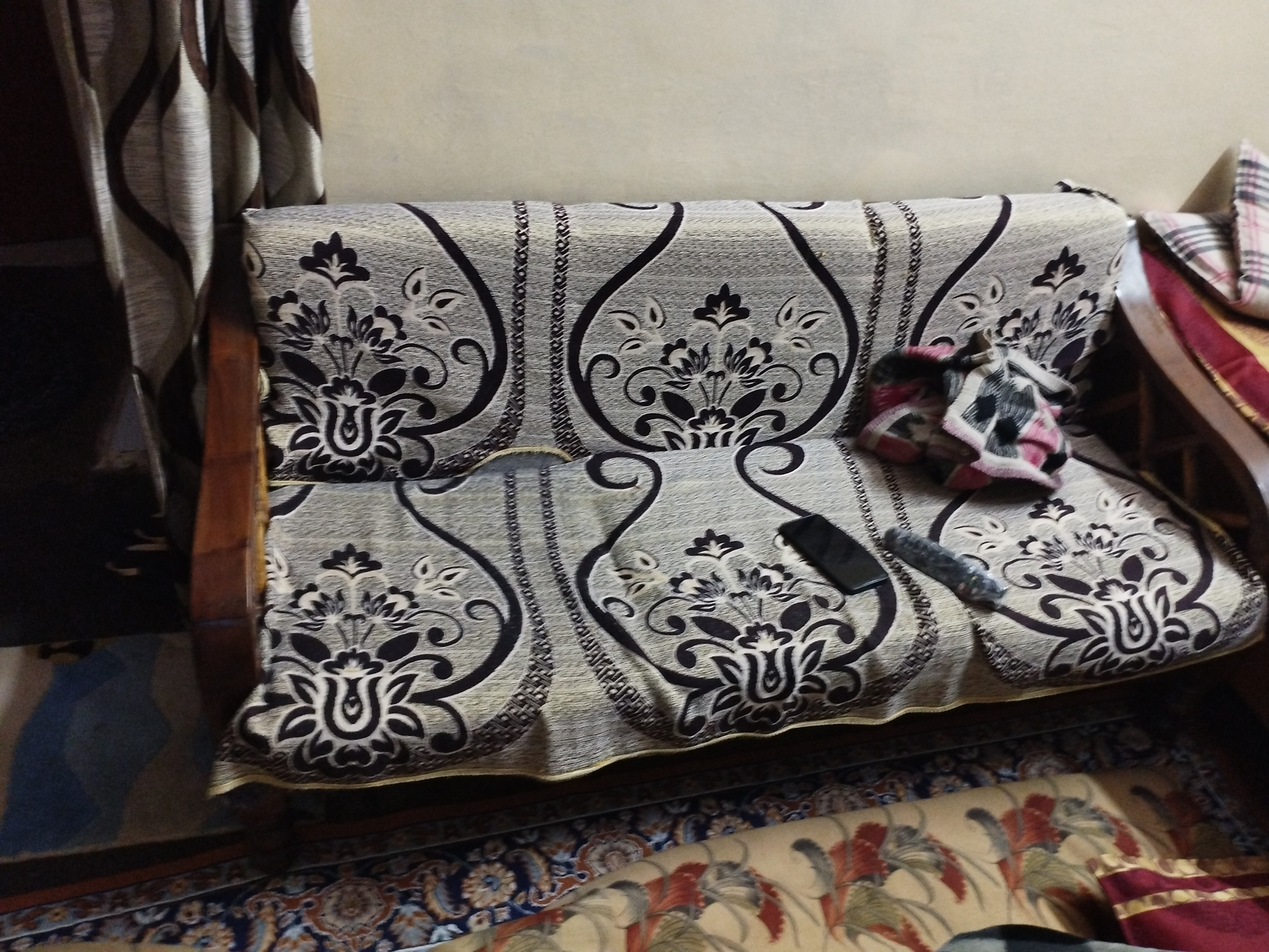sofa: (197, 188, 1269, 872)
